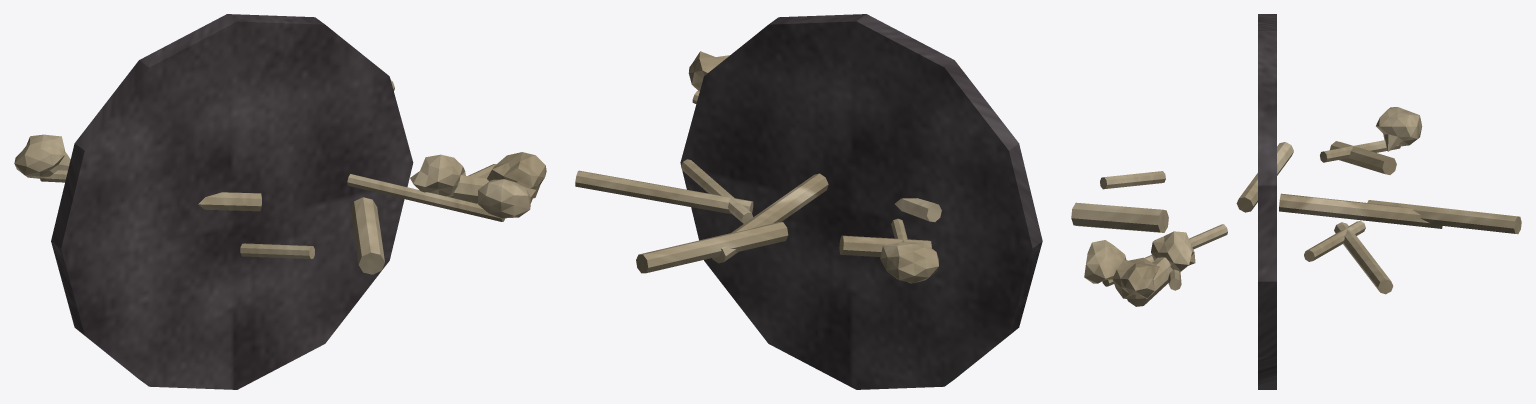
File: 0249_bone_heap_24.glb
The picture shows the model from 3 angles, left to right: view 1: azimuth 30°, elevation 25°; view 2: azimuth 150°, elevation 25°; view 3: azimuth 270°, elevation 25°; orthographic projection. The views are drawn at different scales.
Visible parts, largest first — view 1: ash, bone; view 2: ash, bone; view 3: bone, ash.
Boxes of the visible parts, box(x1,y1,x2,y2) form: ash: box(51, 14, 413, 389); bone: box(14, 80, 546, 274); ash: box(680, 14, 1042, 389); bone: box(575, 51, 941, 283); bone: box(1071, 107, 1521, 306); ash: box(1258, 14, 1276, 389).
Bounding box in the file's own units: 1.91 × 1.6 × 1.91.
Materials: 2 (2 with a texture image).
